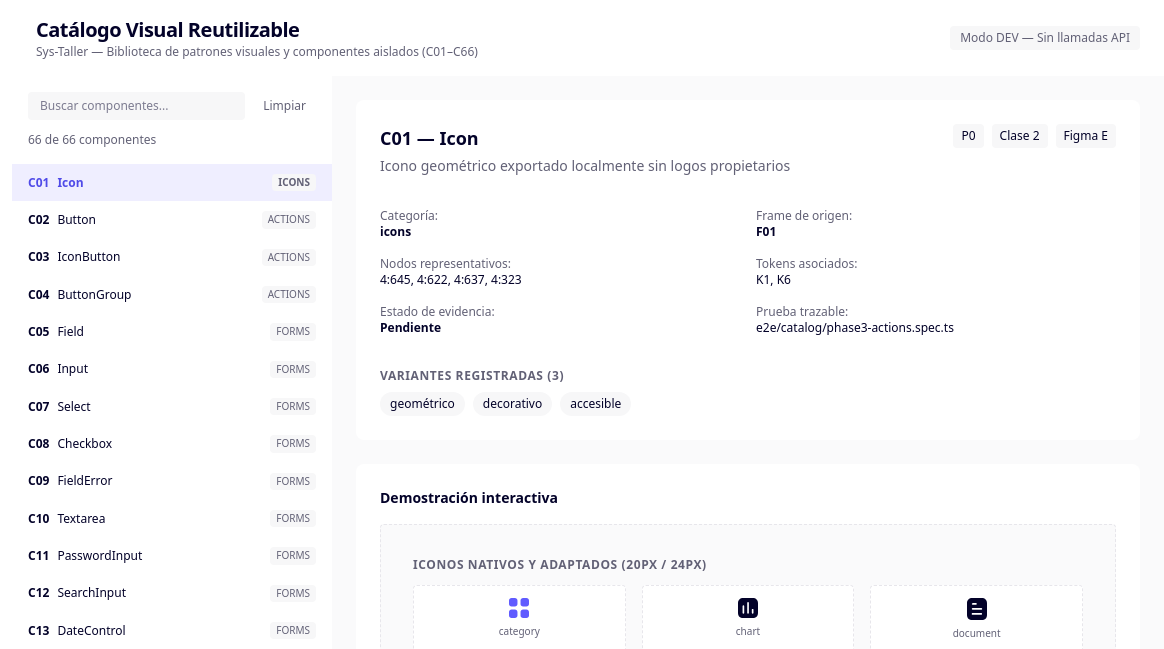
Test case: CatalogApp - Aislamiento e independencia › permite seleccionar un componente y ver sus variantes y ficha de procedencia
What coordinates should you click on to do the following:
click the text "C02"
I would click on:
 (39, 220)
Its box is x1=28 y1=212 x2=49 y2=228.
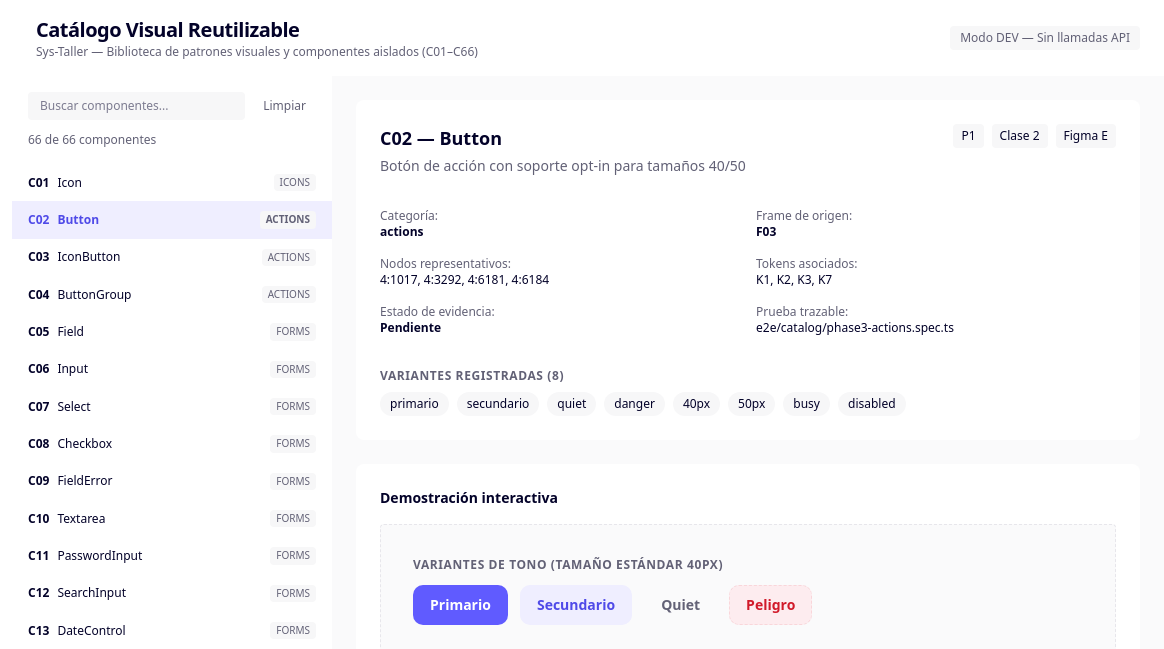
expect the text "Pendiente" is shown: met, box x1=380 y1=319 x2=441 y2=336
expect the heading "C02 — Button" is shown: met, box x1=380 y1=126 x2=502 y2=150
